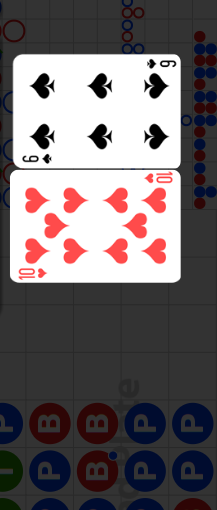10H: (18, 266, 49, 280)
6S: (144, 58, 177, 71)
